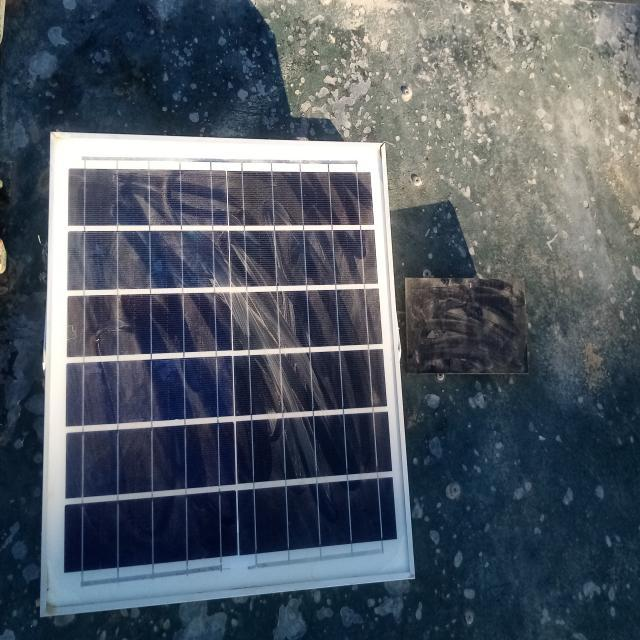faulty: (40, 137, 418, 617), (405, 279, 532, 375)
